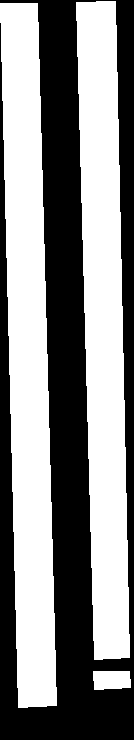parkingspot: (0, 3, 56, 707), (76, 1, 129, 659), (93, 671, 130, 689)
